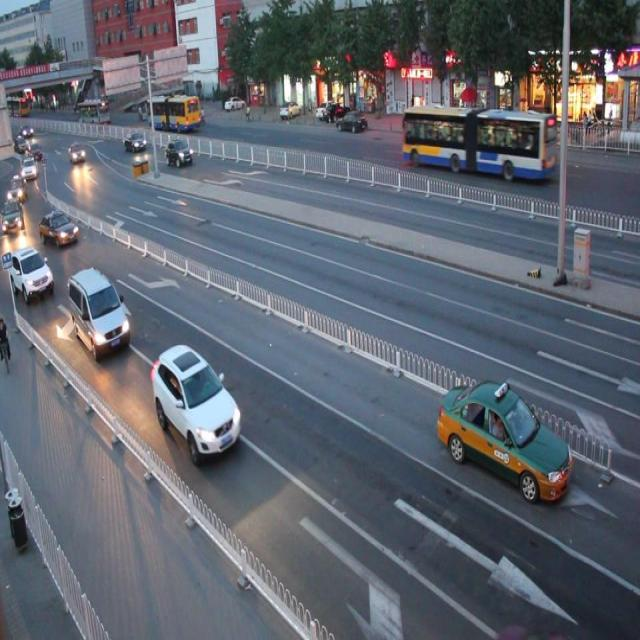car: (438, 378, 572, 504), (152, 344, 243, 461), (68, 265, 130, 358)
van: (400, 103, 555, 183)
